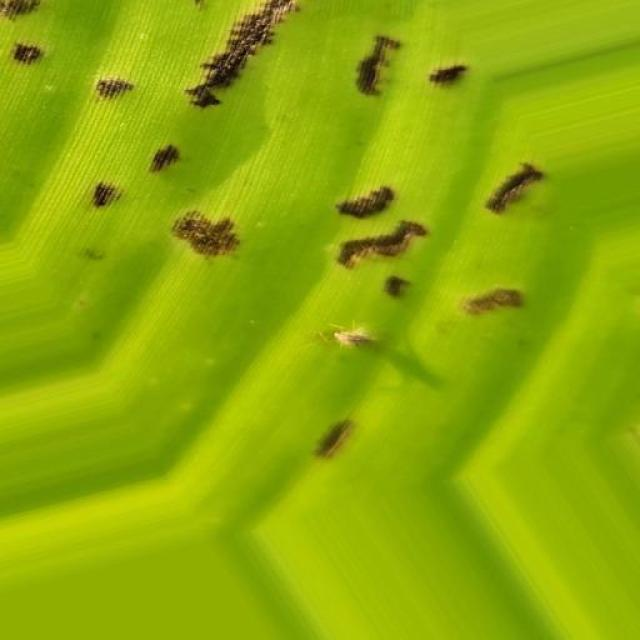Black_rot: (0, 0, 576, 459)
